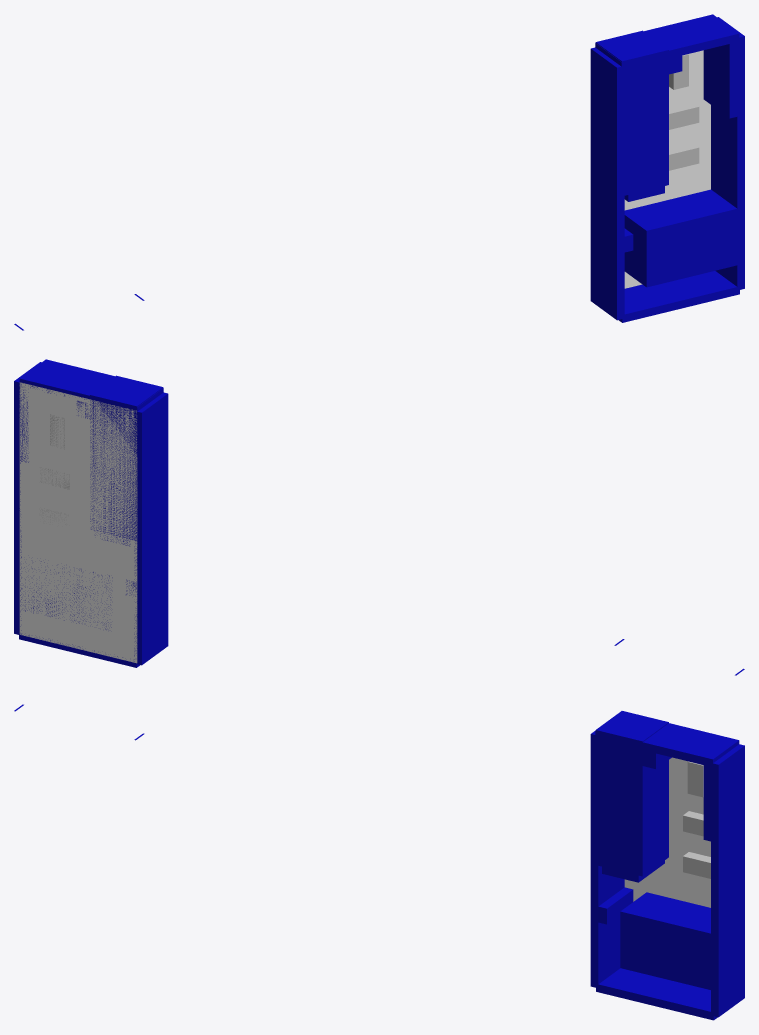
File: academy.obj
The picture shows the model from 3 angles, top to bottom: view 1: azimuth 30°, elevation 25°; view 2: azimuth 150°, elevation 25°; view 3: azimuth 330°, elevation 25°; orthographic projection.
Visible parts, largest first — view 1: wall2, wall6, wall5, wall1, floor, wall3, wall4, wall8, obstacle1, obstacle2; view 2: floor, wall2, wall5, wall4, wall1, wall3; view 3: wall5, wall1, wall6, floor, wall2, wall3, wall4, wall9, wall8, obstacle1, obstacle3.
Boxes of the visible parts, x1,y1,x2,y2 form: wall2: (14, 47, 624, 330); wall6: (624, 189, 737, 287); wall5: (595, 30, 668, 195); wall1: (134, 17, 744, 300); floor: (624, 50, 710, 288); wall3: (618, 271, 739, 322); wall4: (595, 14, 739, 69); wall8: (703, 41, 738, 118); obstacle1: (669, 143, 699, 170); obstacle2: (669, 102, 699, 129); floor: (19, 382, 137, 663); wall2: (134, 392, 744, 675); wall5: (90, 375, 163, 540); wall4: (19, 359, 163, 411); wall1: (14, 362, 624, 645); wall3: (19, 631, 140, 667); wall5: (595, 711, 668, 876); wall1: (134, 733, 744, 1017); wall6: (620, 892, 710, 989); floor: (624, 757, 710, 907); wall2: (14, 704, 624, 988); wall3: (596, 968, 717, 1020); wall4: (595, 723, 739, 767); wall9: (596, 887, 633, 924); wall8: (703, 764, 712, 841); obstacle1: (683, 852, 710, 878); obstacle3: (687, 761, 703, 797).
Size of the model in its own units: 93.95 by 32.93 by 6.
